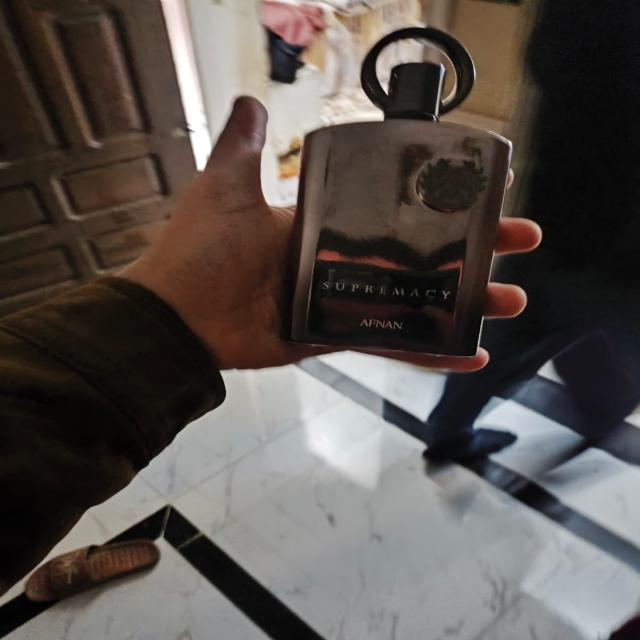Afnan: (284, 25, 514, 358)
